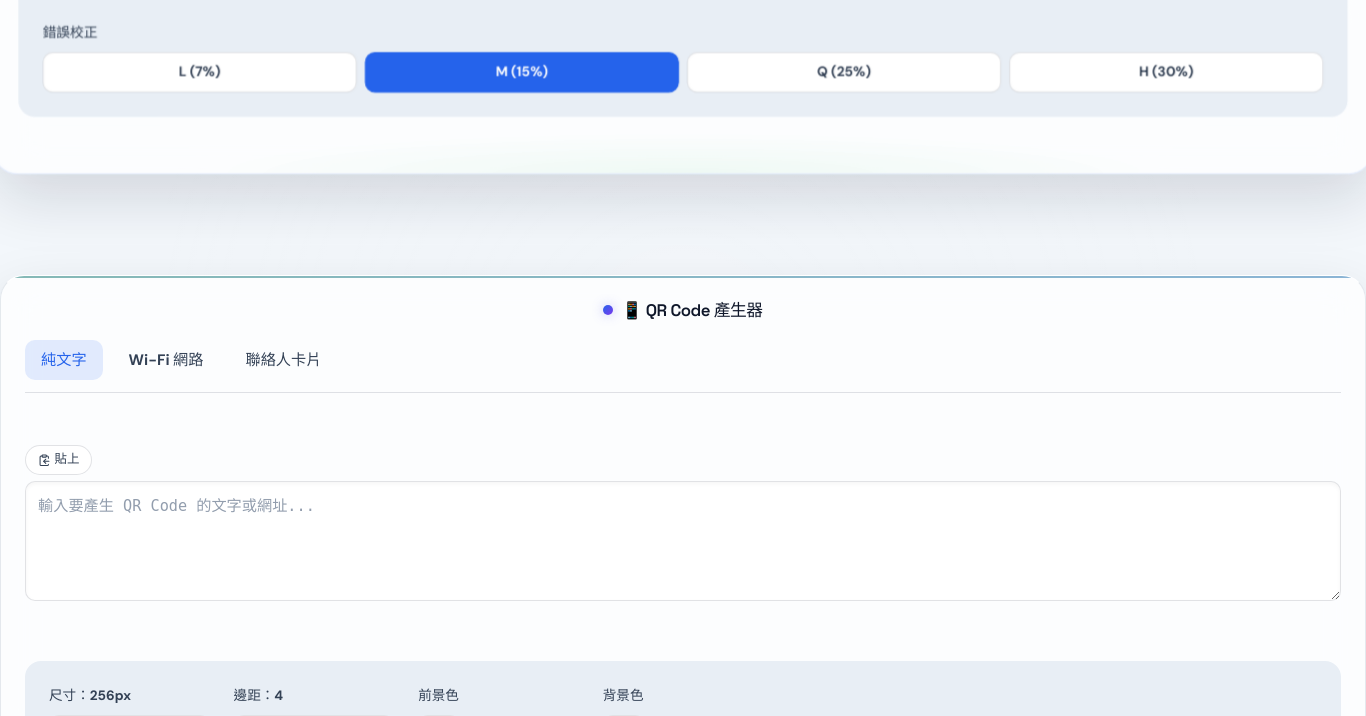
Test: QrCodeGenerator.vue › 模式切換 (模式: Text/WiFi/Contact) › 切換到 WiFi 模式應顯示 WiFi 輸入欄位
(page scrolled)
Step 1. Click the button with class "tab-btn" showing "Wi-Fi 網路" → point(166, 360), box [113,340,220,380]
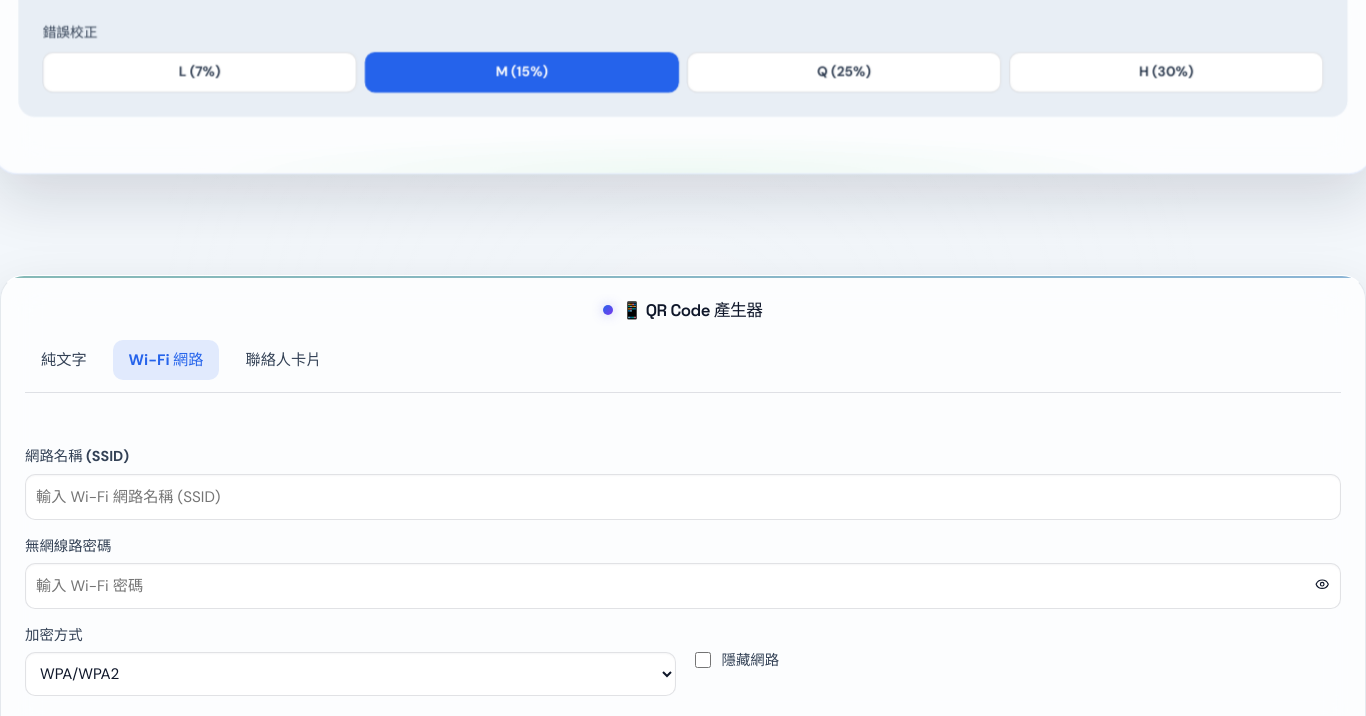
Expected: the field labelled "網路名稱 (SSID)" is shown, [25,474,1341,520]
Expected: the password field labelled "無網線路密碼" is shown, [25,563,1341,609]
Expected: the dropdown labelled "加密方式" is shown, [25,652,676,696]
